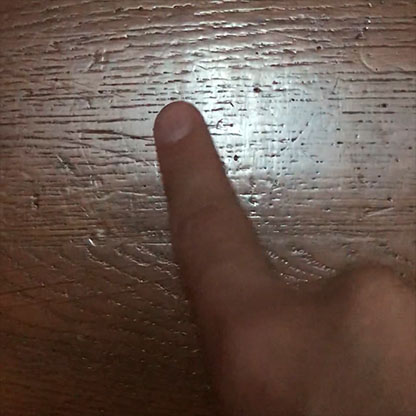fingertip: (140, 95, 213, 160)
